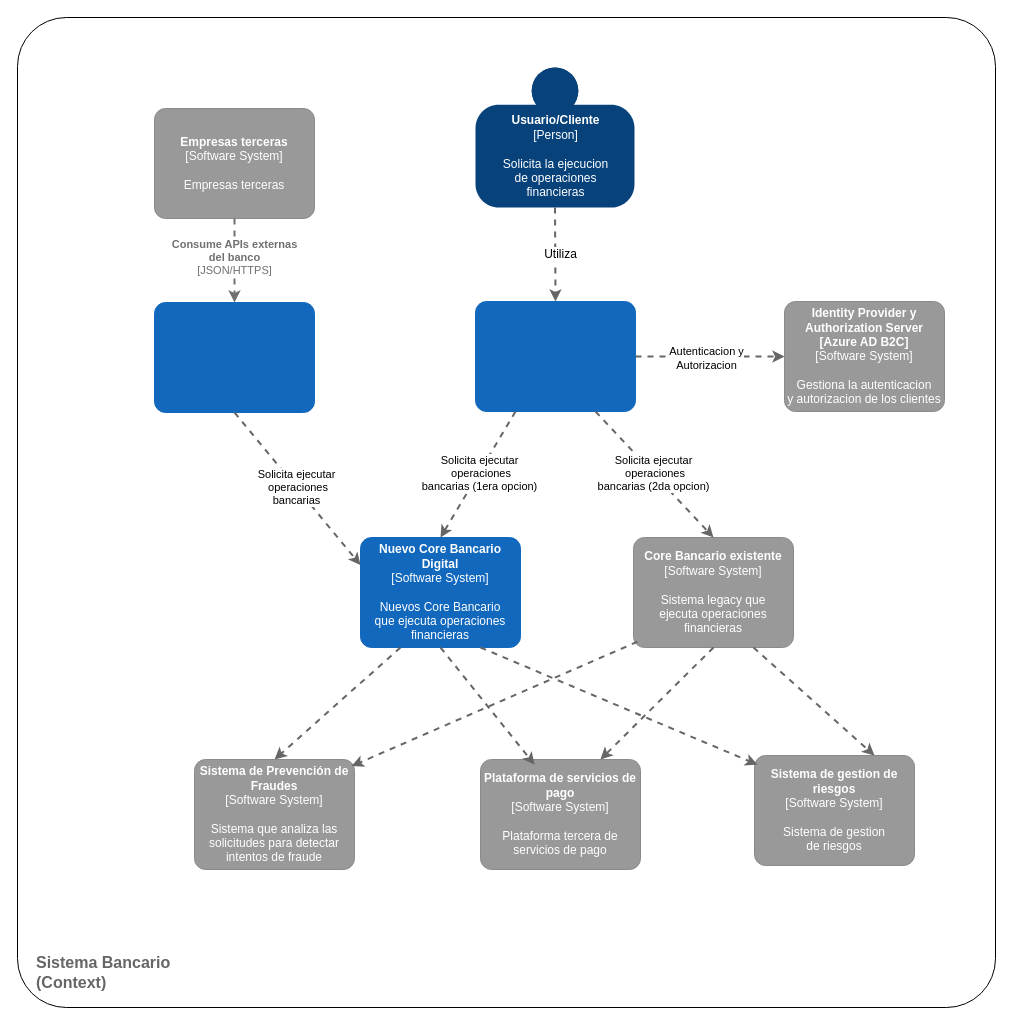
Some shapes in this 1013 by 1025 pixel diagram are drawn without their labels. Here are the shapes that lost their labels. From the top down, the box of each, then its label:
(154, 302, 314, 412): Sistema Open Finance [Software System] APIs para servicios de terceros
(474, 300, 636, 412): Sistema de banca por internet [Software System] Solicita operaciones financieras
